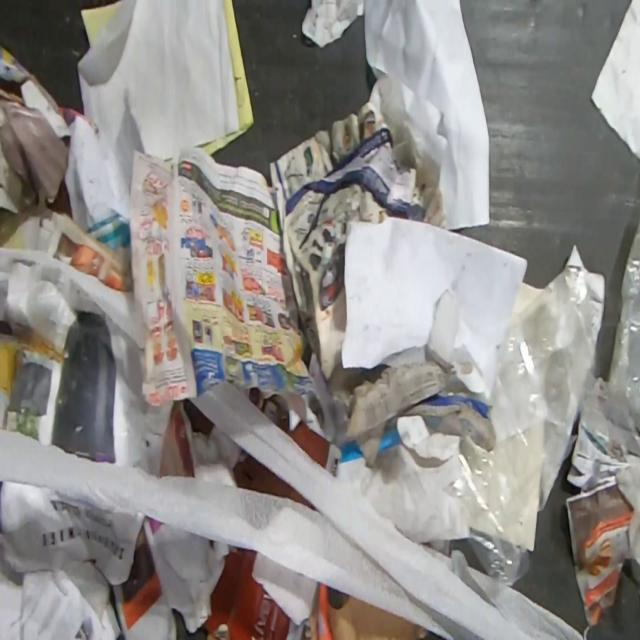cardboard: (200, 545, 306, 640), (248, 386, 342, 473), (232, 453, 316, 511)
soft_plastic: (442, 220, 640, 588)
